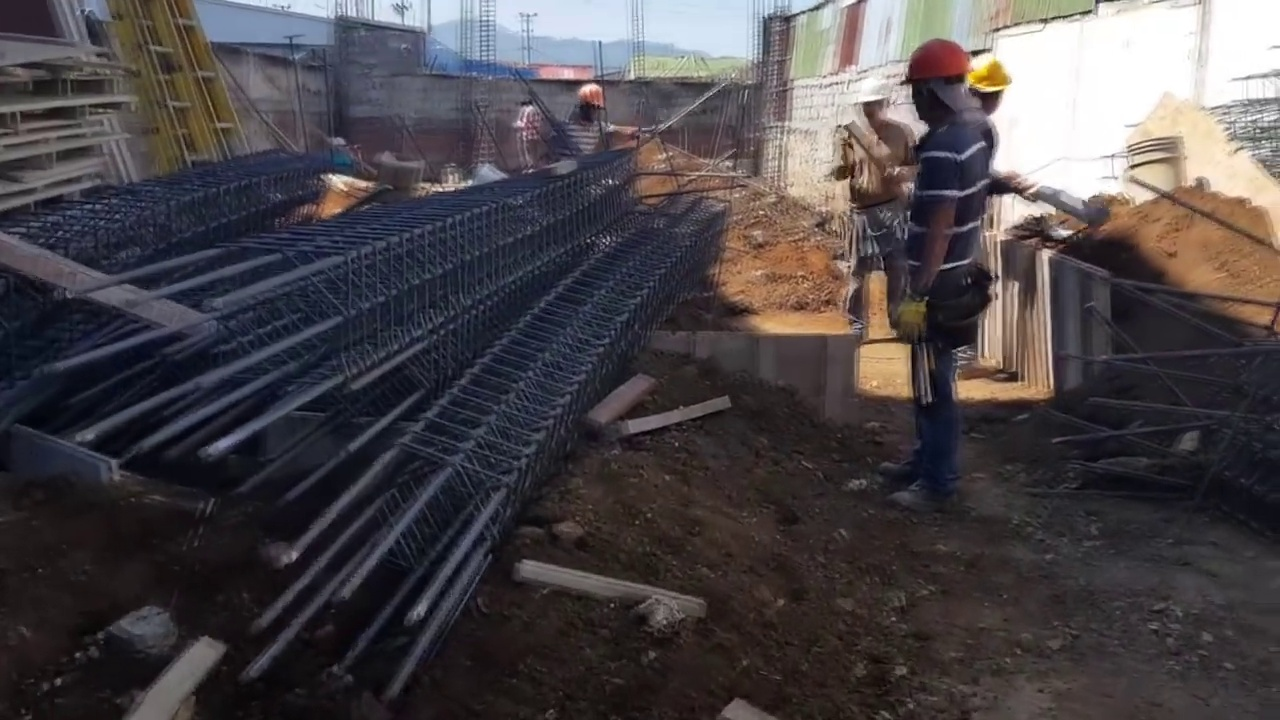helmet: (905, 36, 972, 82), (968, 48, 1014, 95), (851, 77, 894, 107), (579, 82, 605, 110)
helmet-off: (519, 94, 532, 108)
helmet-on: (903, 37, 973, 135), (975, 49, 1015, 114), (852, 76, 894, 129), (572, 81, 605, 126)
person: (895, 35, 1003, 488), (826, 74, 924, 320), (555, 83, 612, 167), (513, 93, 545, 177)
